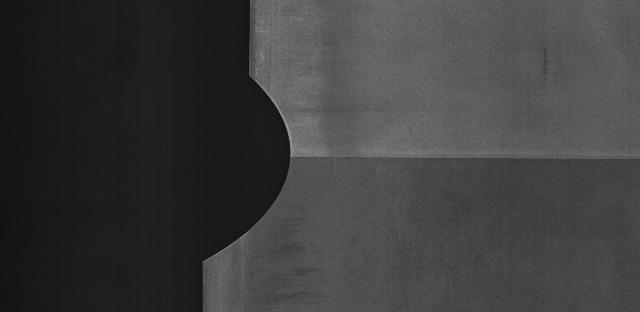welding_line: (287, 148, 640, 177)
